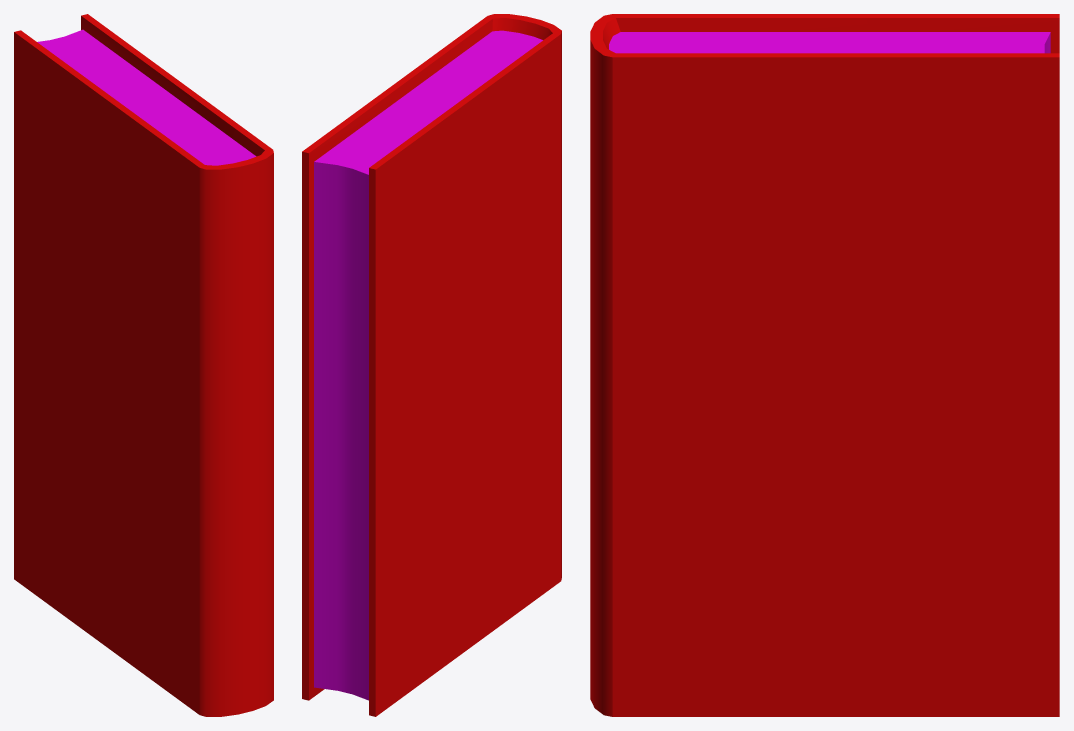
The model's file is SM_lgBook.fbx.
The picture shows the model from 3 angles, left to right: view 1: azimuth 30°, elevation 25°; view 2: azimuth 150°, elevation 25°; view 3: azimuth 270°, elevation 25°; orthographic projection. The views are drawn at different scales.
Visible parts, largest first — view 1: SM_lgBook; view 2: SM_lgBook; view 3: SM_lgBook.
Boxes of the visible parts, x1,y1,x2,y2 form: SM_lgBook: (14, 14, 273, 716); SM_lgBook: (302, 14, 561, 716); SM_lgBook: (590, 14, 1059, 716).
Bounding box in the file's own units: 8.34 × 59.15 × 38.12.
